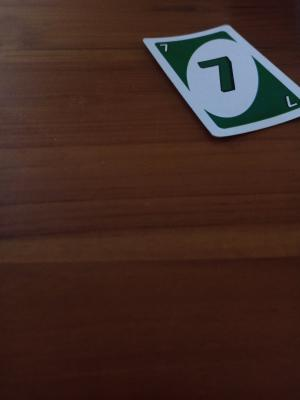green: (165, 44, 277, 122)
